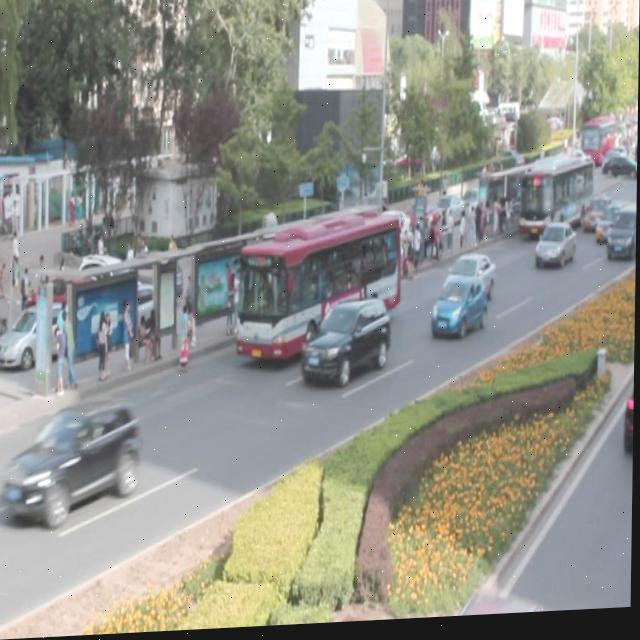car: (5, 396, 143, 522), (300, 295, 389, 387), (430, 279, 485, 340), (445, 255, 493, 305), (534, 224, 576, 270), (596, 206, 628, 245)
truck: (608, 210, 637, 264)
van: (238, 213, 400, 362), (519, 169, 592, 244)
